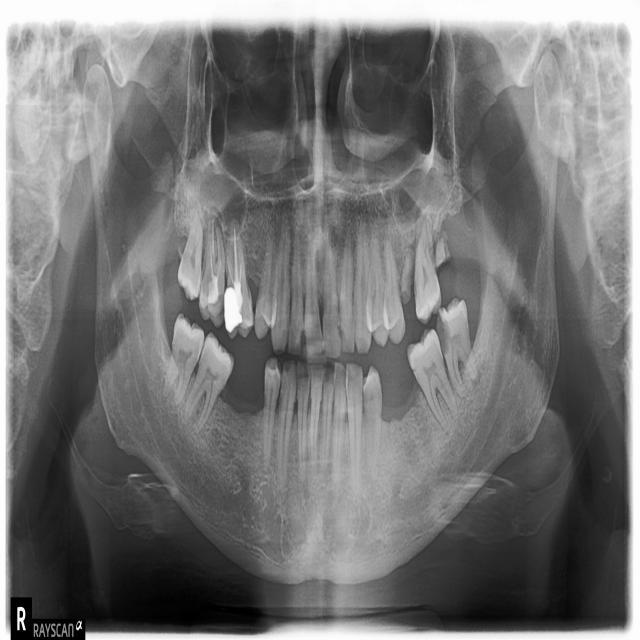mandibula: (84, 49, 564, 588)
